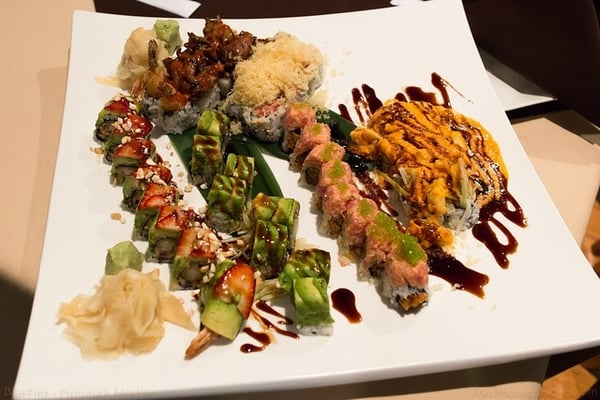curry: (278, 248, 333, 330)
